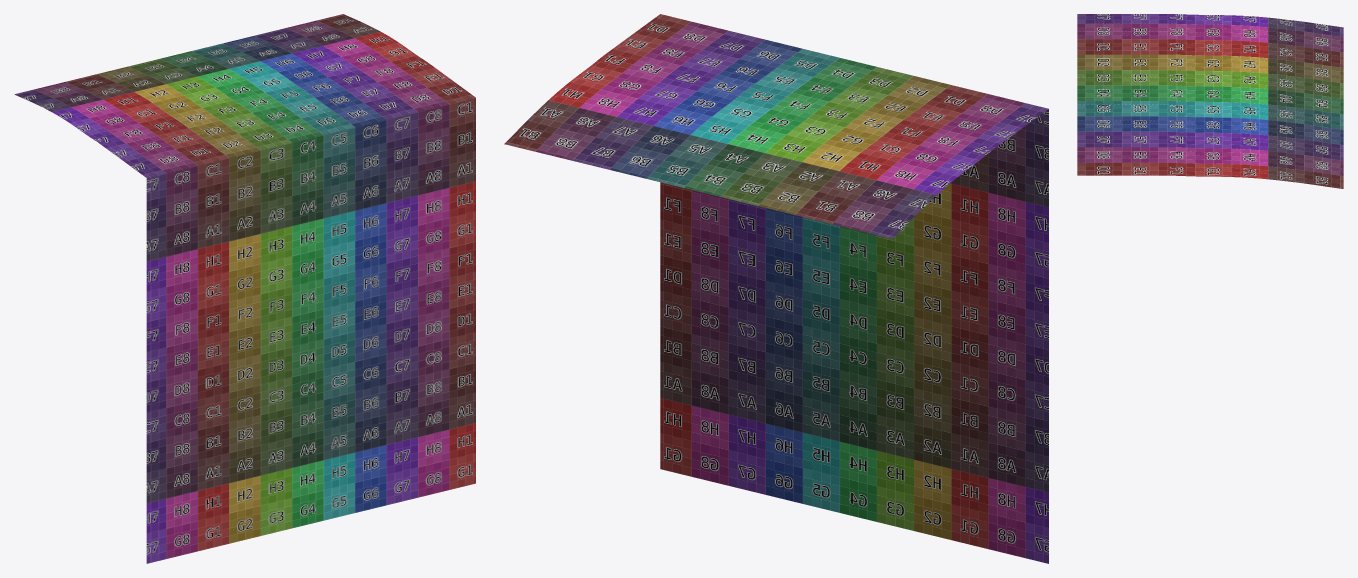
File: ocean-impostor_fix_2.glb
3 renders of one model, left to right at view 1: azimuth 30°, elevation 25°; view 2: azimuth 150°, elevation 25°; view 3: azimuth 270°, elevation 25°, orthographic. The views are drawn at different scales.
Visible parts, largest first — view 1: ocean_impostor_improved; view 2: ocean_impostor_improved; view 3: ocean_impostor_improved.
Part boxes in pixels (x1,y1,x2,y2): ocean_impostor_improved: (14, 14, 475, 563); ocean_impostor_improved: (504, 14, 1048, 563); ocean_impostor_improved: (1077, 14, 1343, 188).
Size of the model in its own units: 66.99 by 75 by 46.68.
2 materials, 2 textured.
